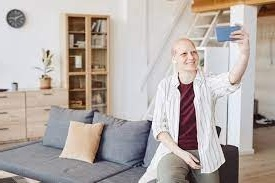not_fallen: (149, 18, 252, 183)
